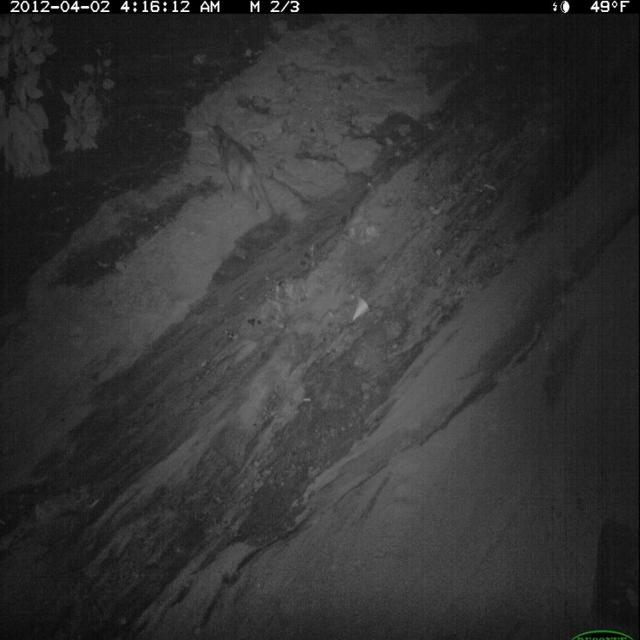cat: (205, 115, 281, 227)
